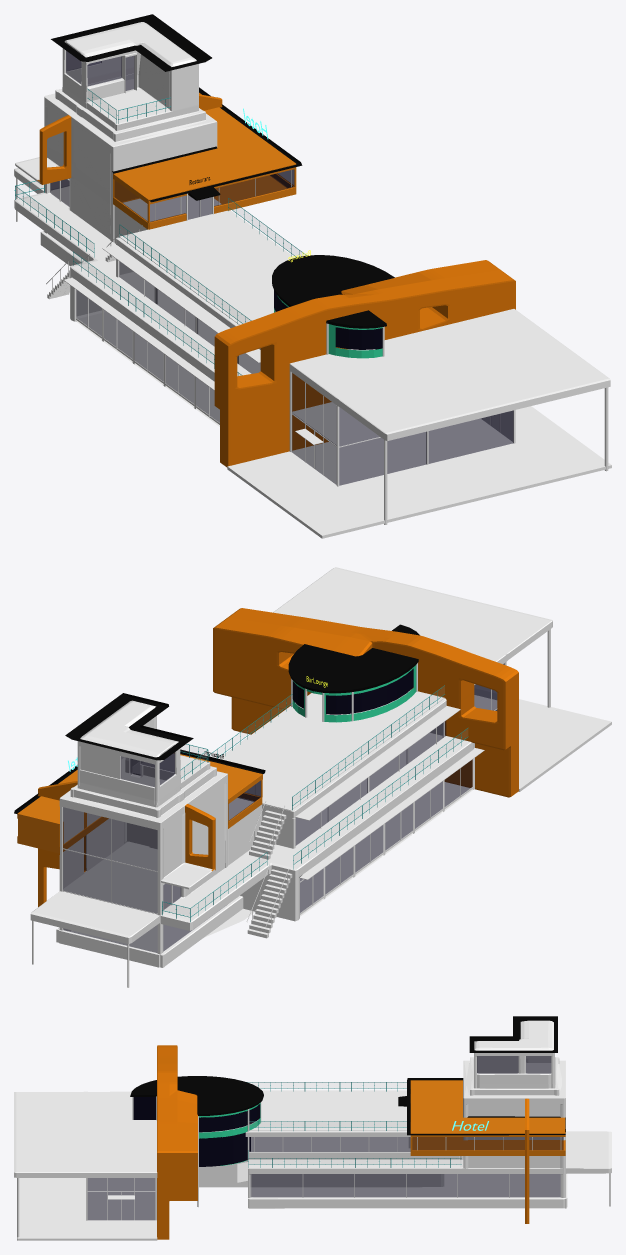
Rendered from Italiandesignhotel1.2.fbx.
3 renders of one model, top to bottom at view 1: azimuth 30°, elevation 25°; view 2: azimuth 150°, elevation 25°; view 3: azimuth 270°, elevation 25°, orthographic. The views are drawn at different scales.
Parts seen in each view (by area): view 1: Cube.028, Cube.003, Cube.001, Cube.004, Cube, Cube.068, Cube.005, Plane.002, Circle.002, Plane.003, Cube.034, Plane (+12 smaller); view 2: Cube.001, Cube.004, Cube, Cube.003, Cube.068, Plane.009, Plane.003, Cube.028, Circle.002, Cube.026, Cube.005, Cube.034 (+15 smaller); view 3: Cube.001, Cube.003, Cube.028, Cube.005, Plane.007, Cube.004, Cube.068, Cube, Circle.001, Plane.001, Circle.002, Cube.002 (+11 smaller).
Boxes of the visible parts, <box> form: Cube.028: <box>227,406,611,538</box>; Cube.003: <box>116,237,610,441</box>; Cube.001: <box>14,22,222,265</box>; Cube.004: <box>214,260,515,467</box>; Cube: <box>14,192,260,426</box>; Cube.068: <box>120,210,292,324</box>; Cube.005: <box>113,92,296,229</box>; Plane.002: <box>339,407,513,485</box>; Circle.002: <box>272,255,394,328</box>; Plane.003: <box>76,290,219,422</box>; Cube.034: <box>64,245,323,444</box>; Plane: <box>291,373,336,484</box>; Cube.001: <box>30,700,254,967</box>; Cube.004: <box>213,608,518,797</box>; Cube: <box>160,733,474,930</box>; Cube.003: <box>262,567,552,848</box>; Cube.068: <box>221,690,444,810</box>; Plane.009: <box>63,807,157,913</box>; Plane.003: <box>300,759,472,912</box>; Cube.028: <box>474,689,611,791</box>; Circle.002: <box>288,624,419,693</box>; Cube.026: <box>63,841,180,913</box>; Cube.005: <box>17,754,262,853</box>; Cube.034: <box>295,706,484,879</box>; Cube.001: <box>248,1020,611,1223</box>; Cube.003: <box>14,1091,410,1177</box>; Cube.028: <box>17,1178,157,1240</box>; Cube.005: <box>398,1080,565,1155</box>; Plane.007: <box>250,1174,560,1197</box>; Cube.004: <box>157,1045,197,1239</box>; Cube.068: <box>223,1091,406,1130</box>; Cube: <box>199,1137,444,1187</box>; Circle.001: <box>133,1097,260,1166</box>; Plane.001: <box>87,1178,155,1220</box>; Circle.002: <box>130,1076,263,1115</box>; Cube.002: <box>245,1131,463,1159</box>.
Size of what is drawn, in the model's own units: 13.3 by 9.22 by 32.18.
